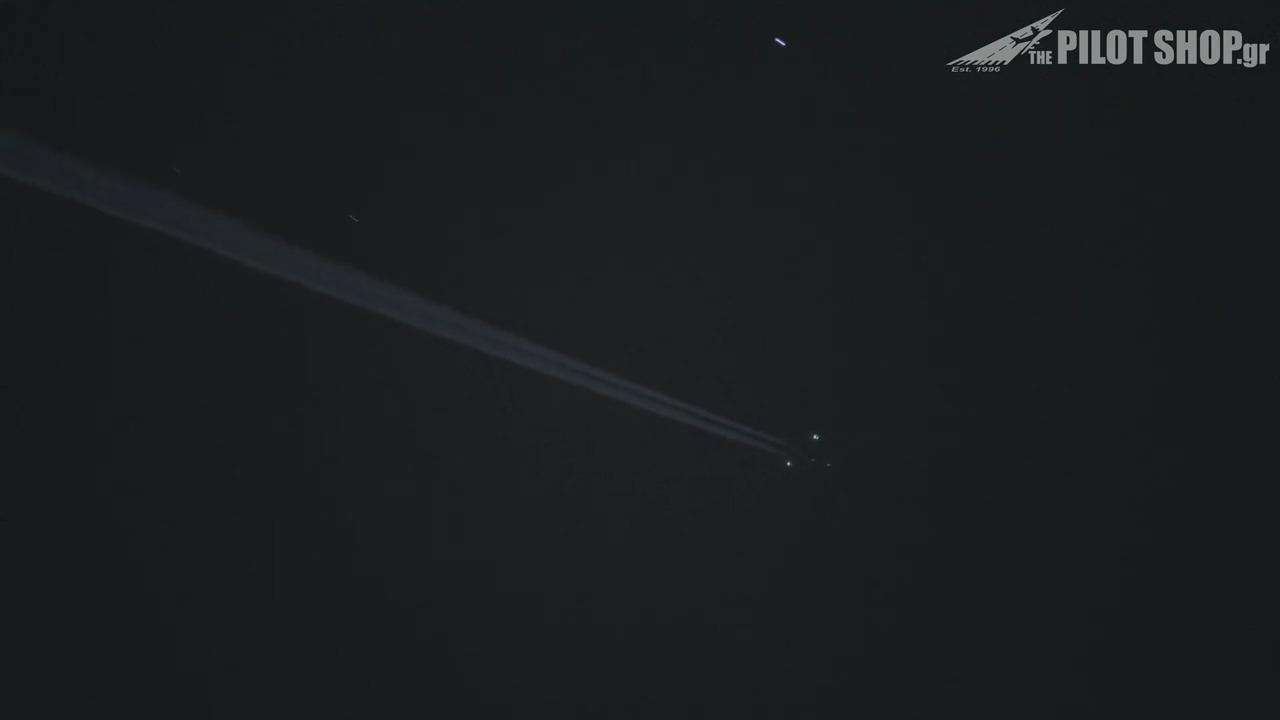Plane: (711, 422, 917, 483)
